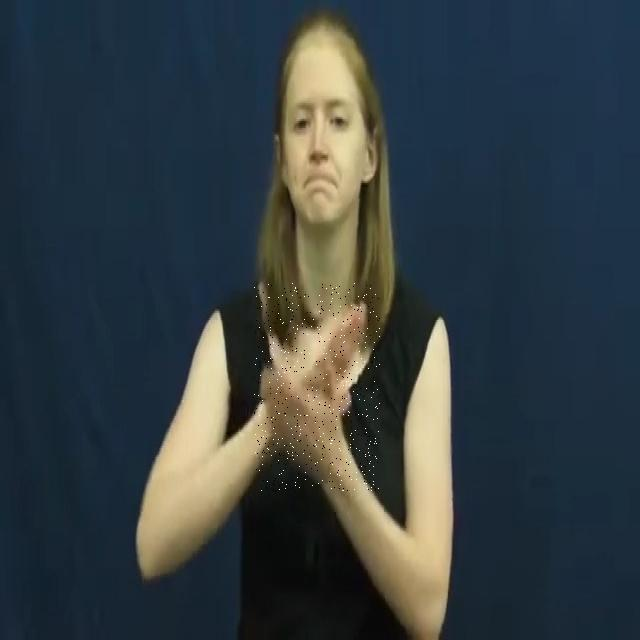fresh: (254, 283, 380, 493)
